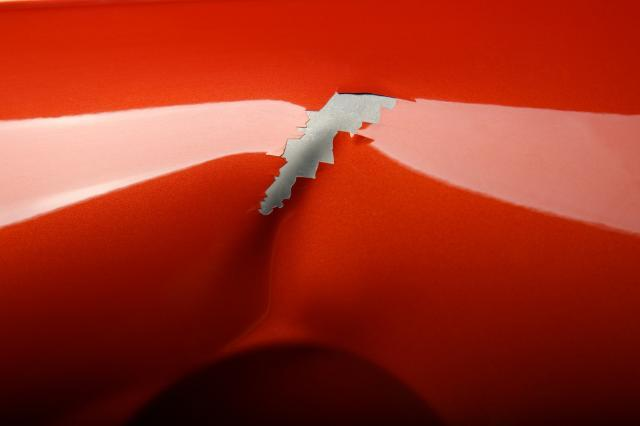dent: (208, 130, 370, 354)
